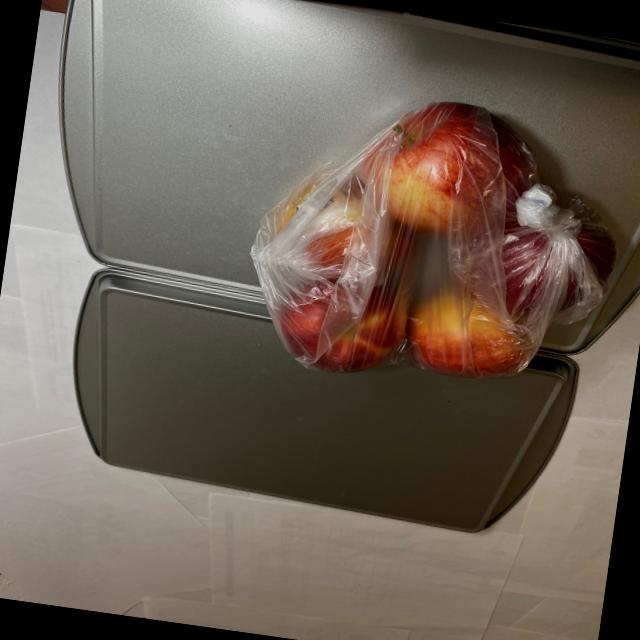apple: (237, 68, 640, 410)
